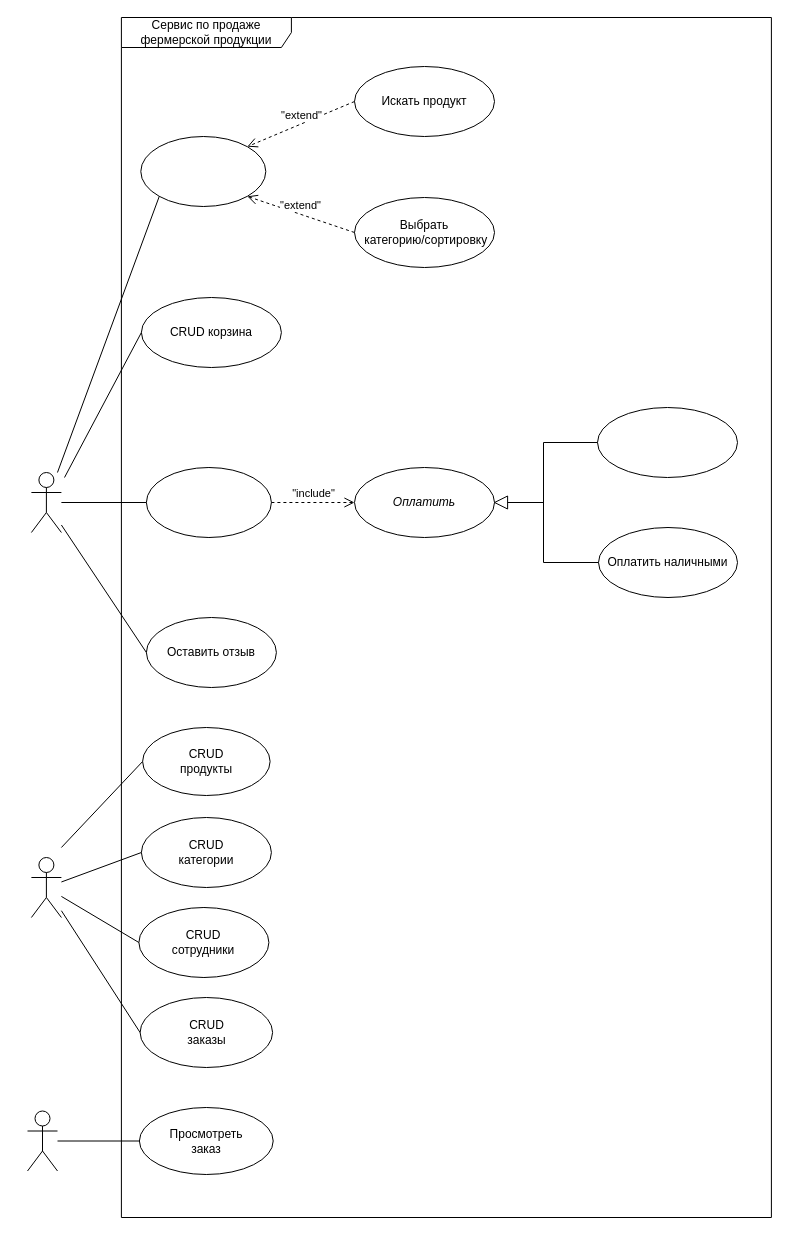
The diagram is 789 pixels wide and 1235 high, and some of its shapes have lost their labels. Each missing label, with the centre of its shape:
Изучить фермерскую продукцию: (x=203, y=171)
Клиент: (x=45, y=502)
Курьер: (x=42, y=1140)
Менеджер: (x=45, y=887)
Оплатить банковской картой: (x=667, y=442)
Сделать заказ: (x=208, y=502)
